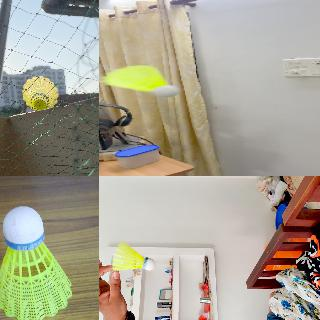shuttlecock: (0, 206, 73, 319), (102, 65, 178, 97), (112, 242, 156, 274), (22, 76, 58, 110)
